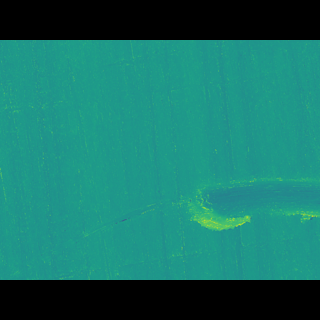Loch: (7, 185, 187, 249), (183, 168, 320, 214)
